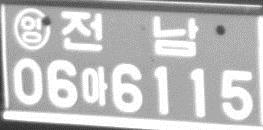0: (11, 57, 43, 106)
1: (181, 67, 215, 118), (147, 64, 179, 114)
5: (220, 69, 254, 121)
6: (45, 59, 78, 109), (110, 62, 143, 112)
아: (80, 65, 108, 106)
영: (13, 6, 52, 51)
전남_D: (60, 9, 199, 57)
